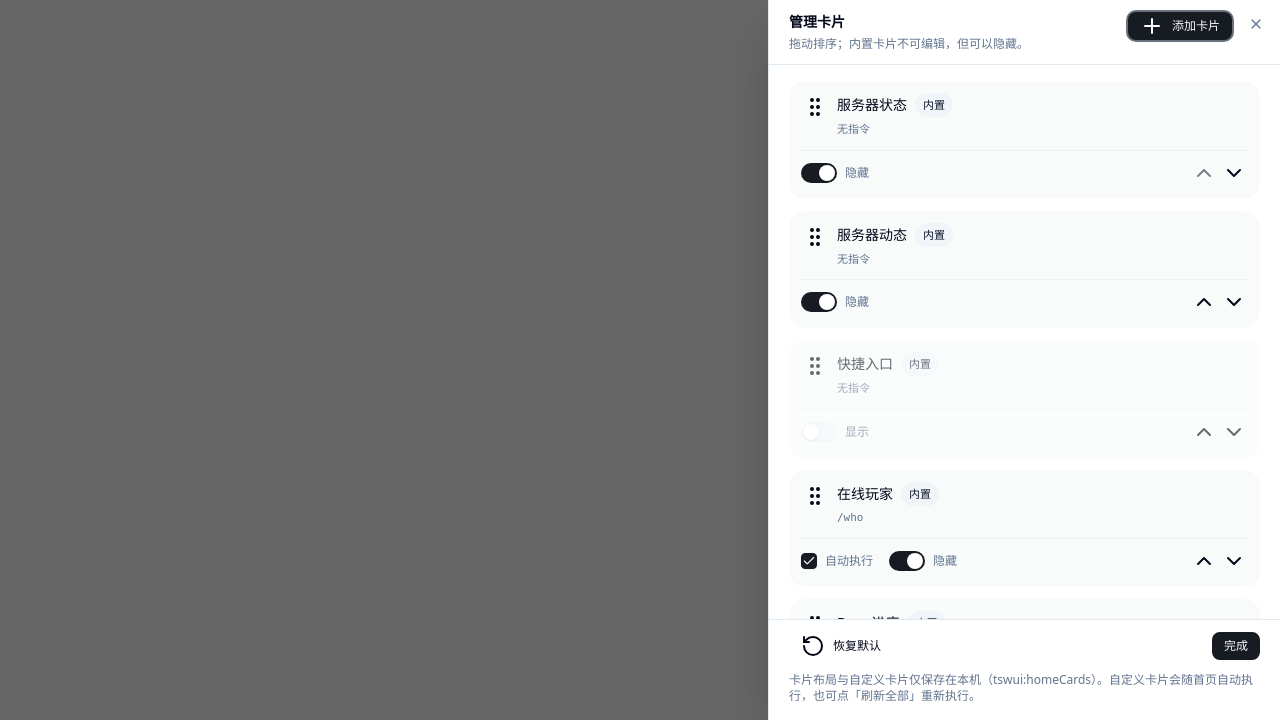
Test: HomeCardManager › 添加按钮在名称和指令都有效前保持禁用
Click the button "添加卡片" at (1180, 26), box [1128, 12, 1232, 40]
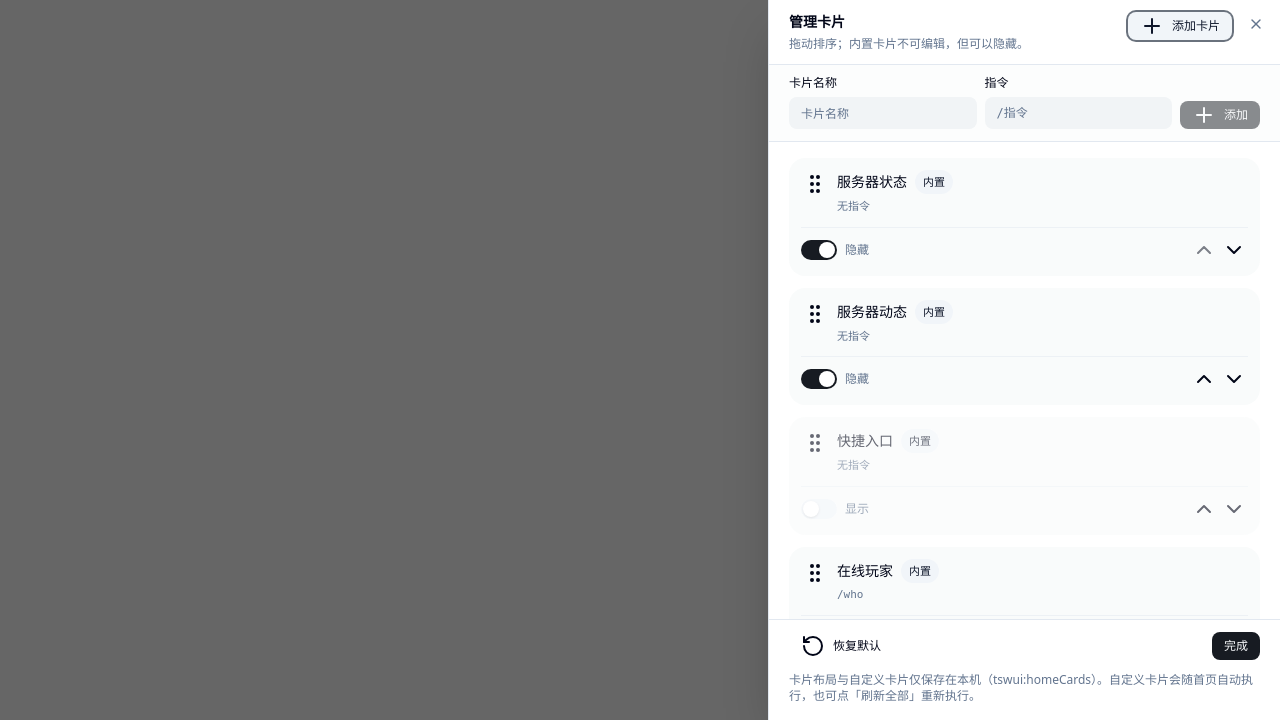
Now the button "添加" is disabled, box [1180, 101, 1260, 129]
Type "我的卡片" into the field labelled "卡片名称" at (883, 113), box [789, 97, 976, 129]
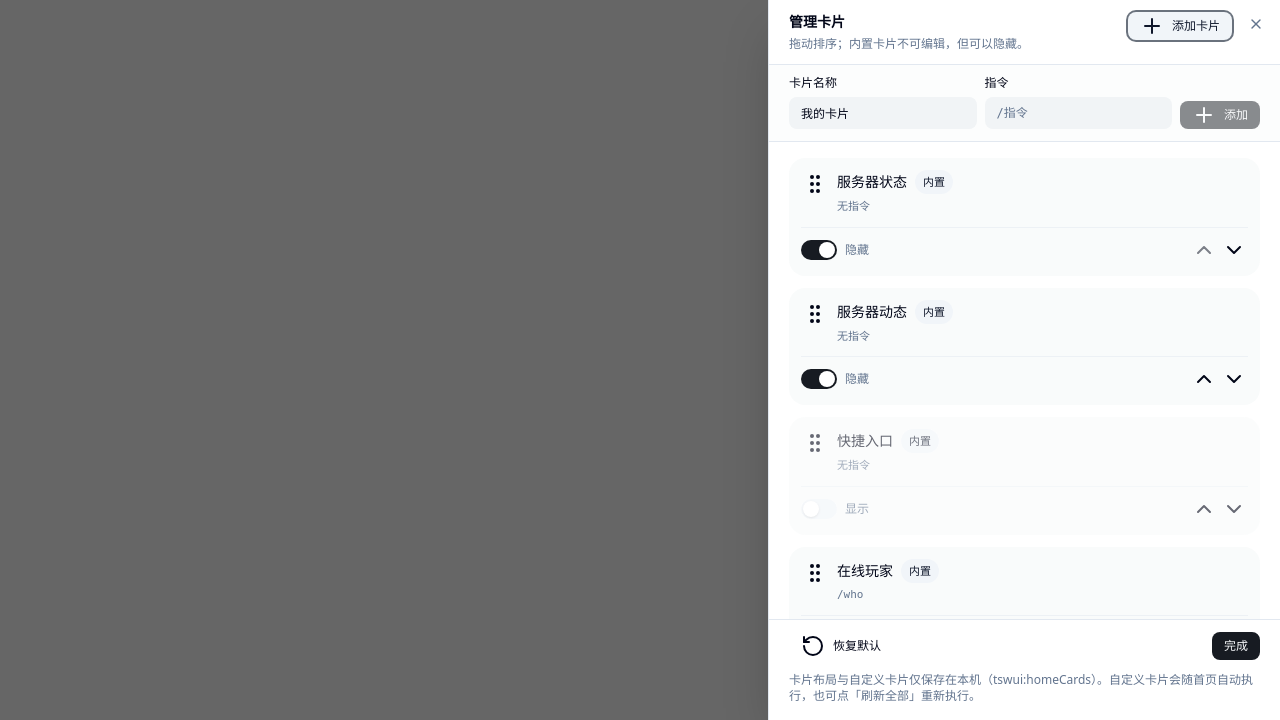
Now the button "添加" is disabled, box [1180, 101, 1260, 129]
Type "time" into the field labelled "指令" at (1078, 113), box [984, 97, 1172, 129]
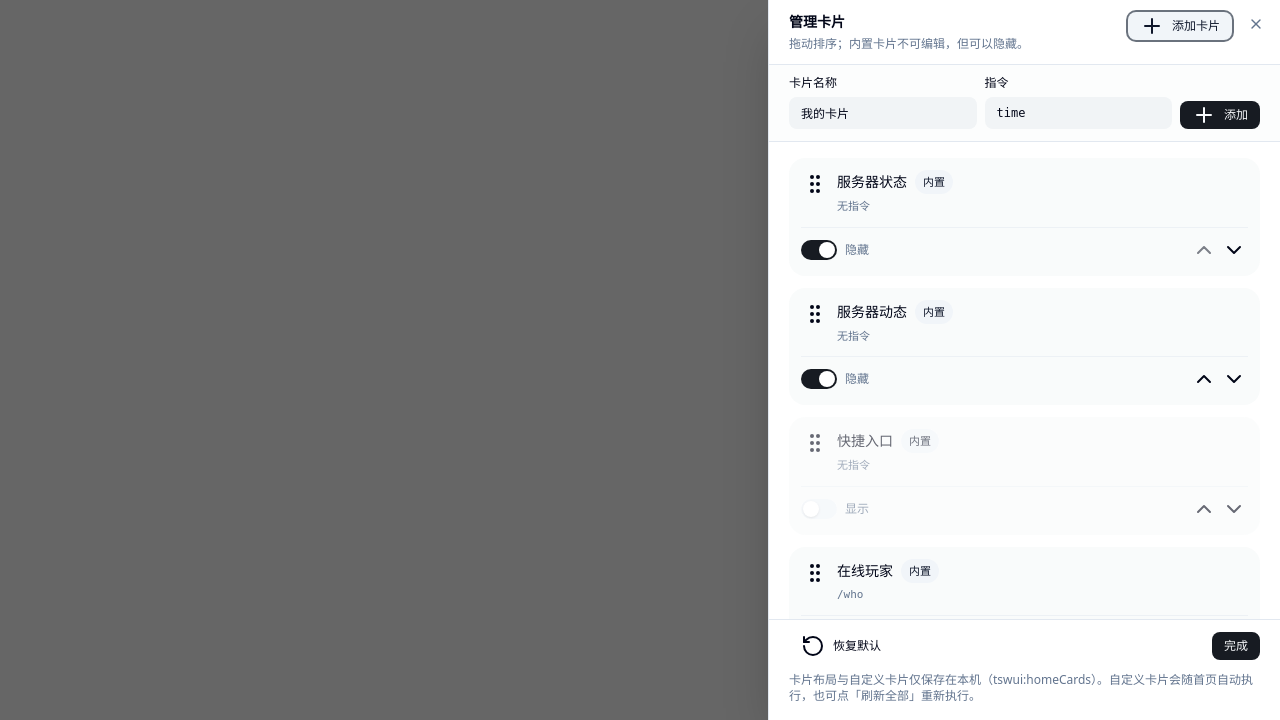
Now the button "添加" is enabled, box [1180, 101, 1260, 129]
